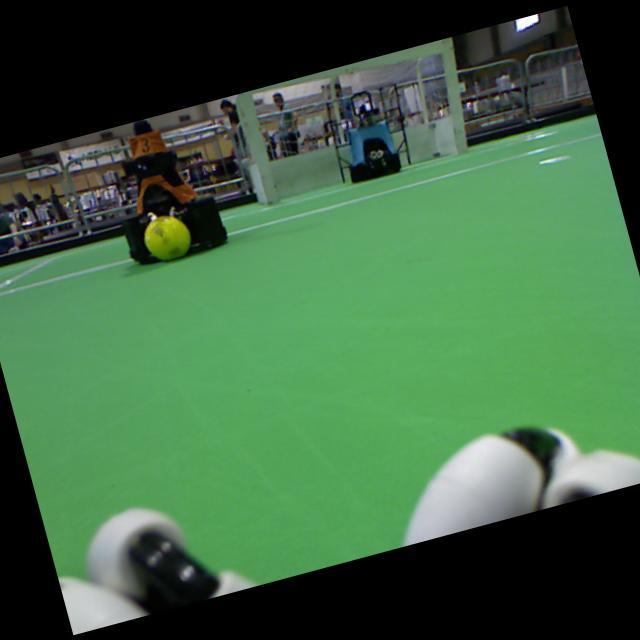ball: (146, 217, 188, 260)
goal: (238, 91, 279, 202), (439, 37, 467, 152)
robot: (120, 119, 227, 262)
